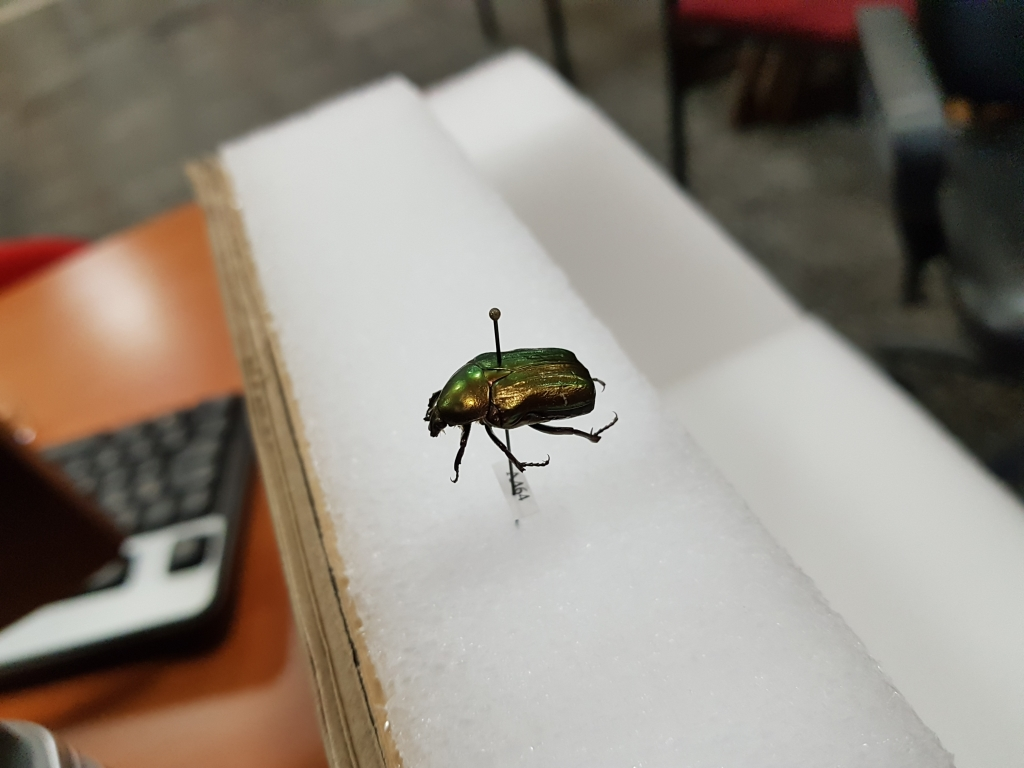Cetonia_kemali: (421, 330, 628, 486)
